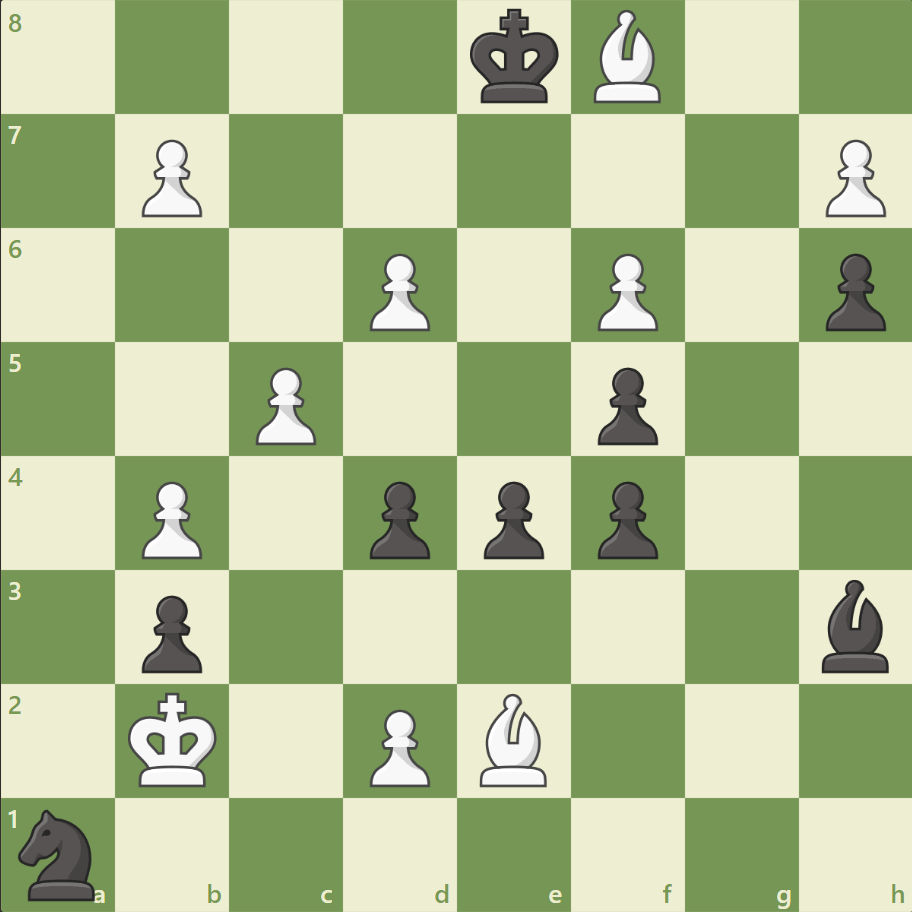B: (585, 6, 669, 109), (471, 687, 555, 790)
K: (124, 685, 224, 793)
P: (133, 132, 208, 223), (247, 359, 322, 450), (133, 473, 208, 564), (815, 132, 889, 223), (361, 246, 435, 337), (588, 246, 662, 337), (361, 700, 435, 791)
b: (812, 574, 896, 676)
k: (465, 4, 565, 112)
n: (11, 802, 108, 904)
p: (474, 473, 549, 564), (133, 586, 208, 677), (815, 246, 889, 337), (588, 359, 662, 450), (361, 473, 435, 564), (588, 473, 662, 564)
